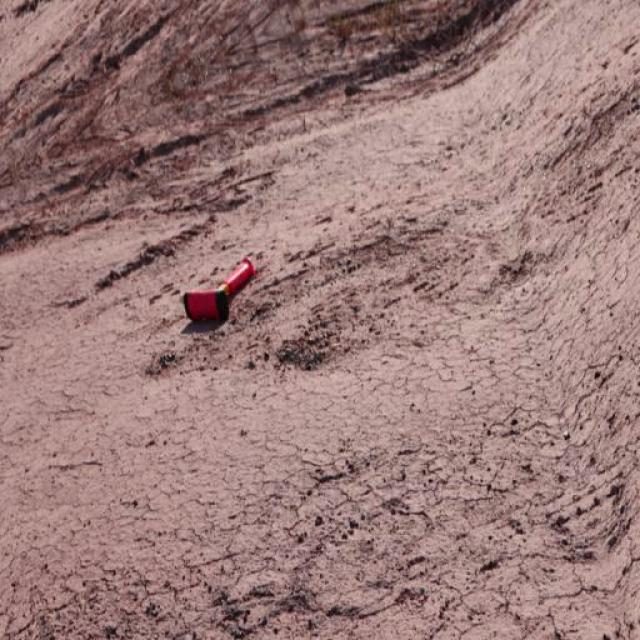mallet: (182, 255, 258, 323)
